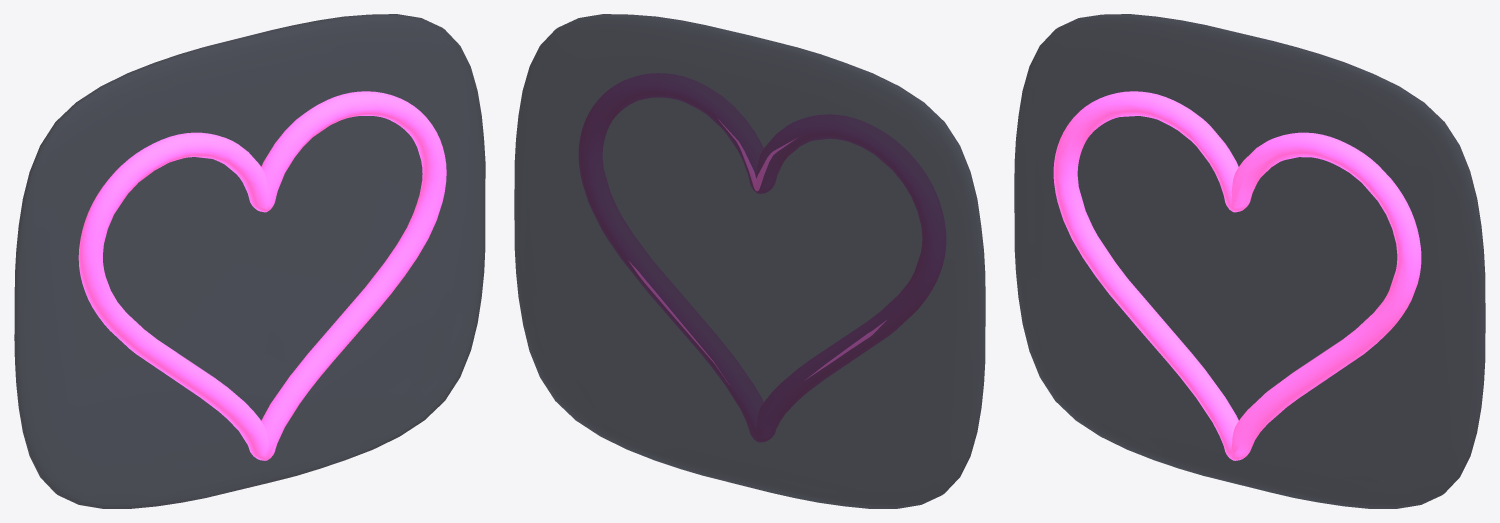
The model's file is deco_neon_corazon.glb.
3 views of the same model, side by side, from view 1: azimuth 30°, elevation 25°; view 2: azimuth 150°, elevation 25°; view 3: azimuth 330°, elevation 25° (orthographic).
Parts seen in each view (by area): view 1: acrílico corazón.001, neón corazón.001; view 2: acrílico corazón.001, neón corazón.001; view 3: acrílico corazón.001, neón corazón.001.
Part boxes in pixels (x1,y1,x2,y2): acrílico corazón.001: (14, 14, 485, 508); neón corazón.001: (78, 91, 446, 460); acrílico corazón.001: (514, 14, 985, 508); neón corazón.001: (579, 73, 945, 441); acrílico corazón.001: (1014, 14, 1485, 508); neón corazón.001: (1053, 91, 1421, 460).
Size of the model in its own units: 0.4796 by 0.4396 by 0.0447.
